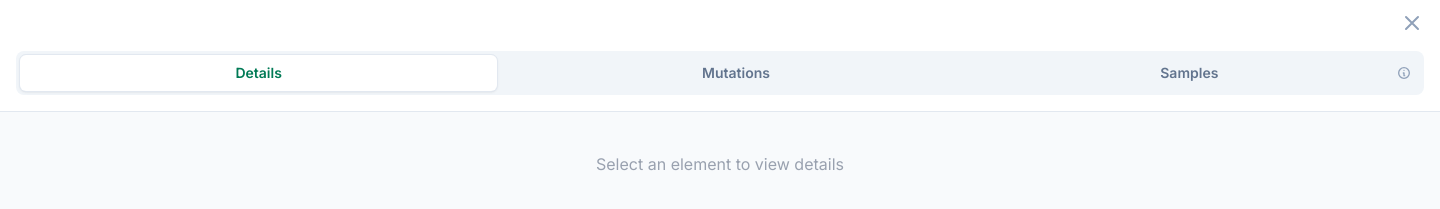
Test case: Info tabs › names the metadata tab Samples and explains sample annotation tools
The width and height of the screenshot is (1440, 209).
Expected: the button "Samples" is shown, [975,55,1420,91]
Step 1. Hover over the button named "Explain Samples tab" → (1404, 73), box [1396,65,1412,81]
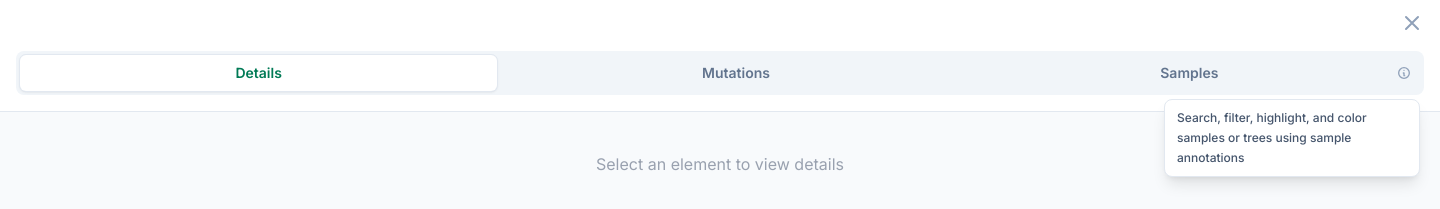
Expected: the tooltip reads "Search, filter, highlight, and color samples or trees using sample annotations", [1177,110,1367,165]
